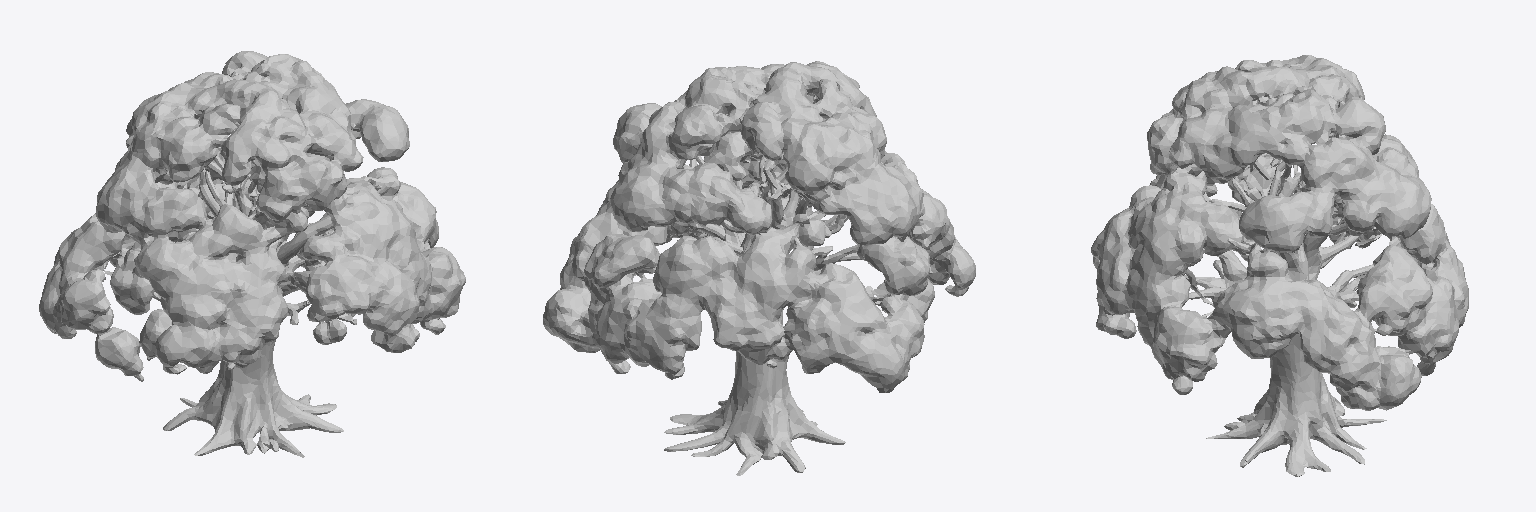
The model's file is a_tree_model_for_an_i_0919133357_preview.obj.
The picture shows the model from 3 angles: view 1: azimuth 30°, elevation 25°; view 2: azimuth 150°, elevation 25°; view 3: azimuth 270°, elevation 25°; orthographic projection.
Visible parts, largest first — view 1: Mesh1; view 2: Mesh1; view 3: Mesh1.
Boxes of the visible parts, x1=… form: Mesh1: x1=39, y1=51, x2=465, y2=457; Mesh1: x1=543, y1=61, x2=975, y2=475; Mesh1: x1=1091, y1=55, x2=1468, y2=476.
Size of the model in its own units: 1.98 by 1.98 by 1.87.